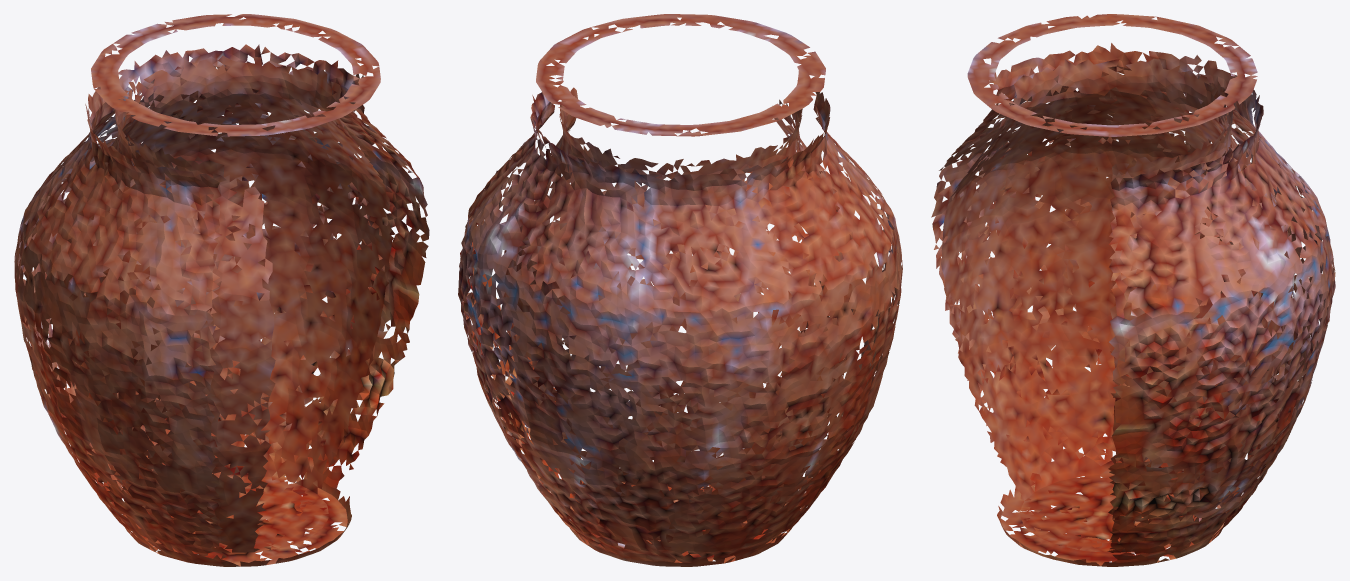
File: vase_final600.obj
The picture shows the model from 3 angles, left to right: view 1: azimuth 30°, elevation 25°; view 2: azimuth 150°, elevation 25°; view 3: azimuth 270°, elevation 25°; orthographic projection.
Bounding box in the file's own units: 1.54 × 1.69 × 1.4.
